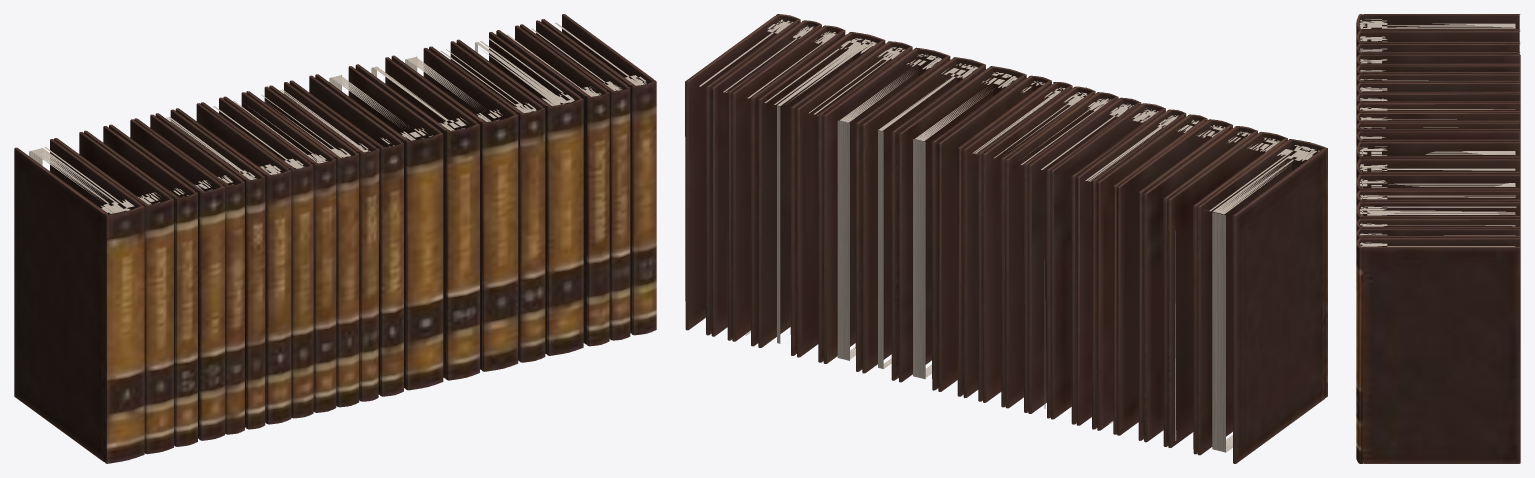
Rendered from book_encyclopedia_set_01.glb.
The picture shows the model from 3 angles, left to right: view 1: azimuth 30°, elevation 25°; view 2: azimuth 150°, elevation 25°; view 3: azimuth 270°, elevation 25°; orthographic projection. The views are drawn at different scales.
Parts seen in each view (by area): view 1: book_encyclopedia_set_01_book01; view 2: book_encyclopedia_set_01_book01; view 3: book_encyclopedia_set_01_book01.
Boxes of the visible parts, left/top/right/bottom form: book_encyclopedia_set_01_book01: left=14, top=14, right=656, bottom=463; book_encyclopedia_set_01_book01: left=685, top=14, right=1327, bottom=463; book_encyclopedia_set_01_book01: left=1356, top=14, right=1520, bottom=463.
Bounding box in the file's own units: 0.5516 × 0.2374 × 0.1636.
2 materials, 2 textured.
